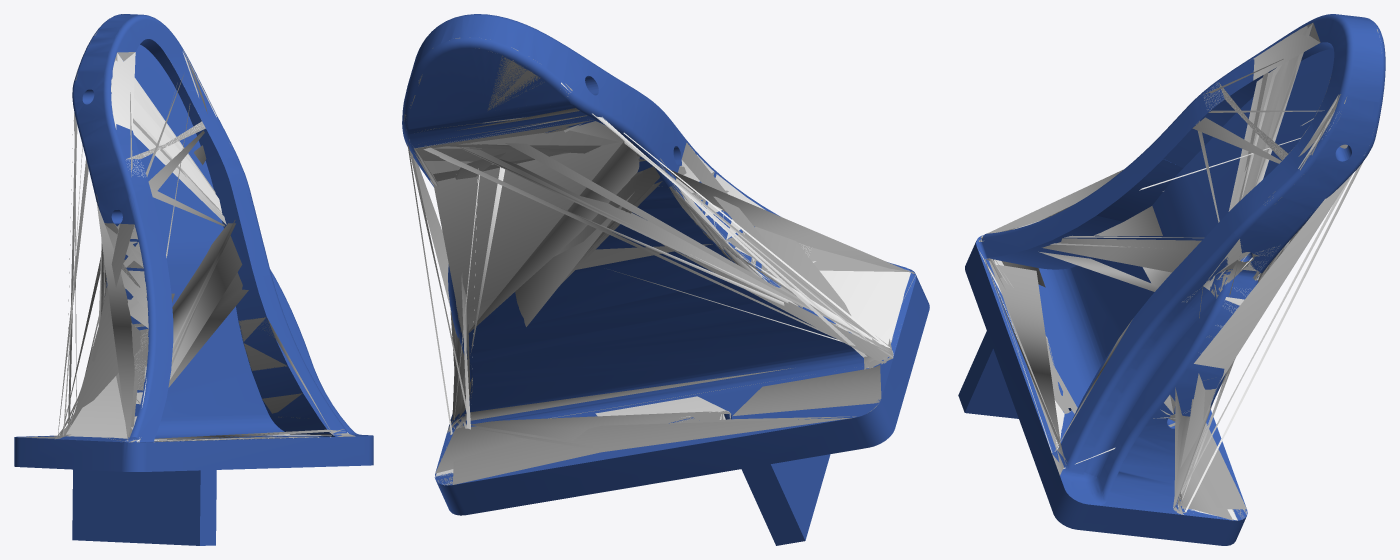
The picture shows the model from 3 angles, left to right: view 1: azimuth 30°, elevation 25°; view 2: azimuth 150°, elevation 25°; view 3: azimuth 270°, elevation 25°; orthographic projection. The views are drawn at different scales.
Parts seen in each view (by area): view 1: node0, node1, node2; view 2: node0, node1, node2; view 3: node0, node1, node2.
Boxes of the visible parts, x1,y1,x2,y2 form: node0: (14,14,373,545); node1: (18,14,355,442); node2: (63,52,348,442); node0: (402,14,929,545); node1: (404,37,915,485); node2: (407,48,915,484); node0: (958,14,1385,545); node1: (978,23,1378,520); node2: (980,23,1364,520).
Bounding box in the file's own units: 0.0653 × 0.0797 × 0.0634.
